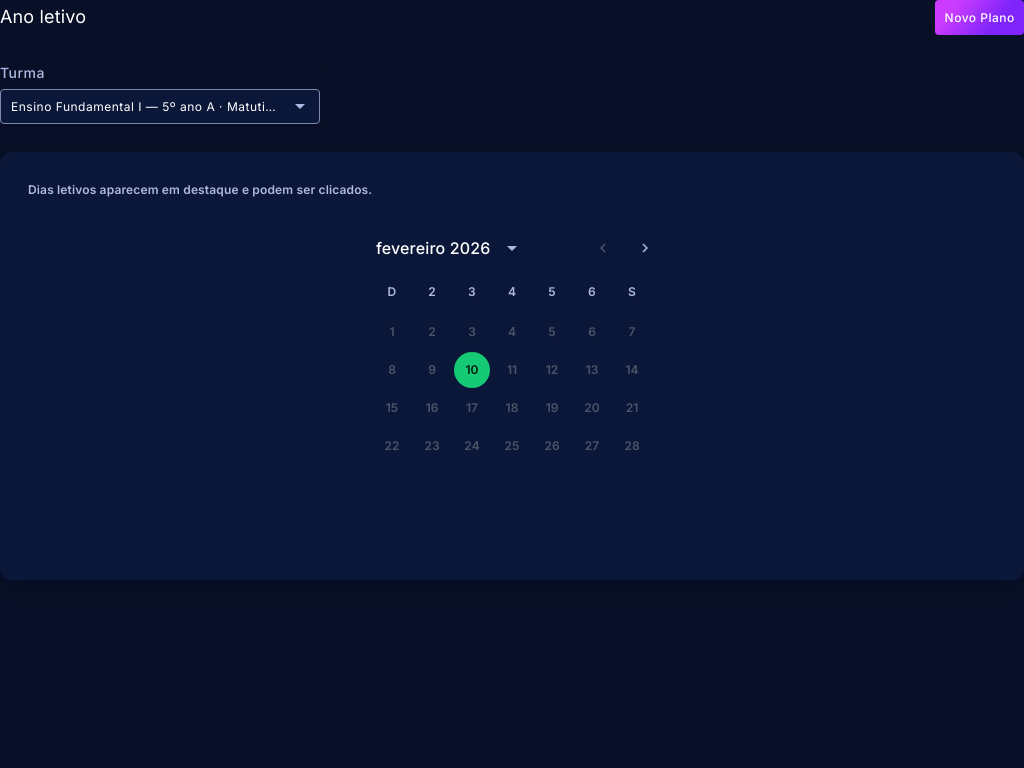
Test: LessonPlans page — teacher view › reports a teacher not assigned to the subject with the API 403
Click the cell "10" at (472, 370), box [454,352,490,388]
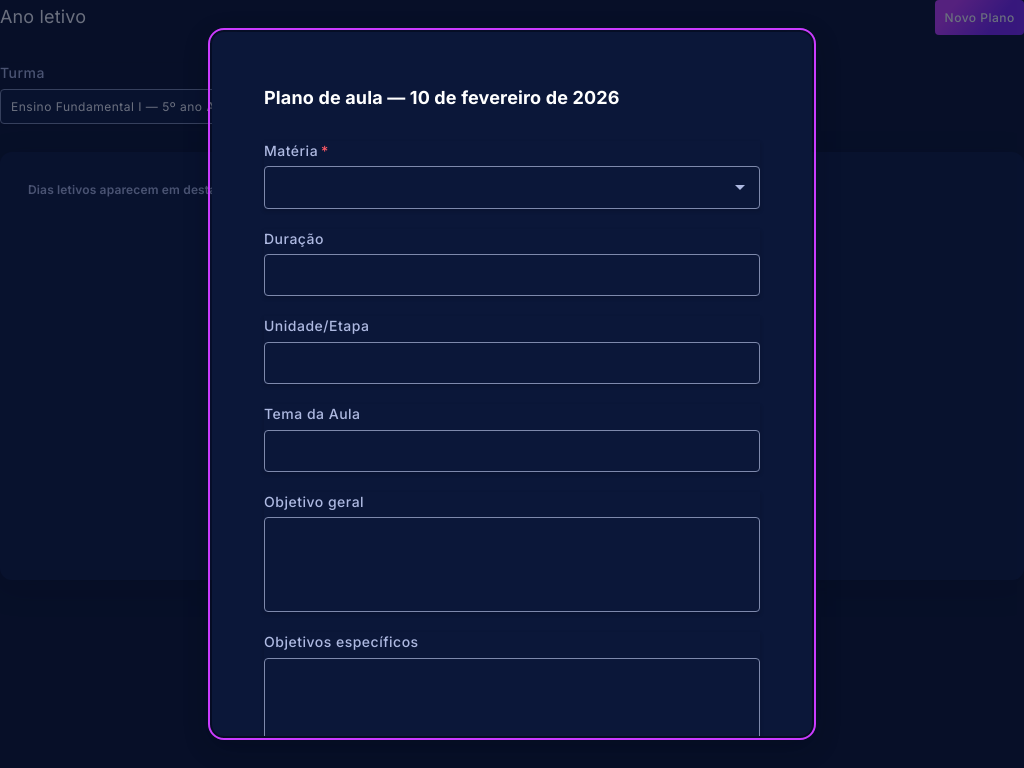
Click the dropdown named "matéria" at (512, 187), box [275,177,749,198]
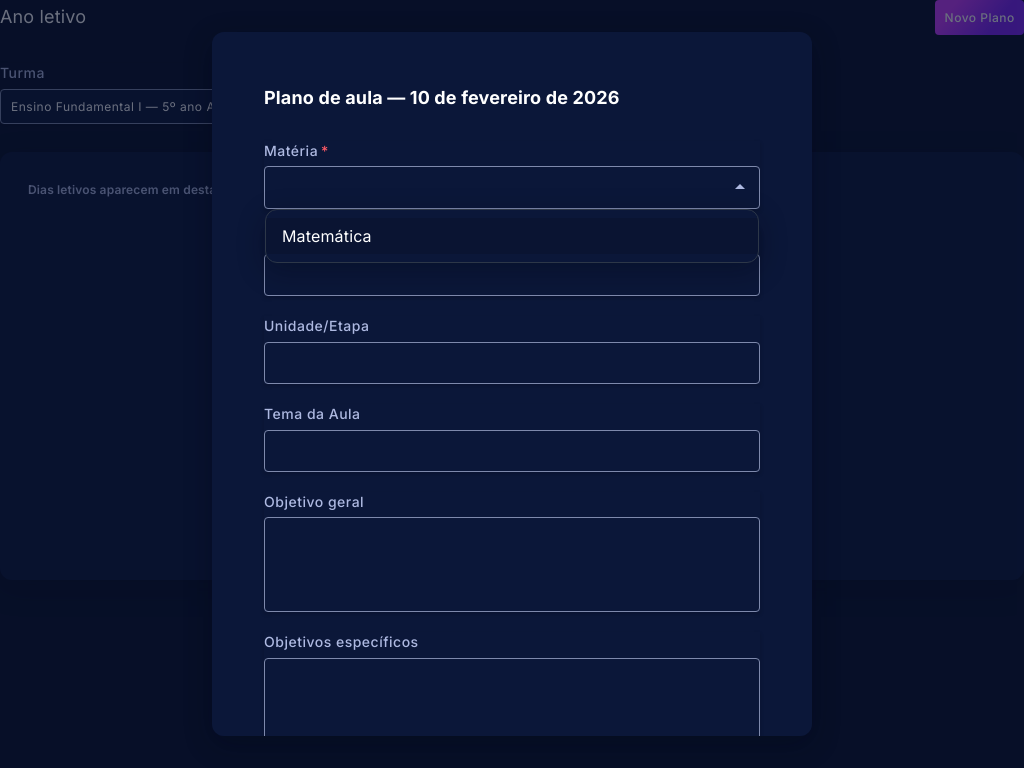
Click the option "Matemática" at (327, 236), box [266,218,758,254]
(page scrolled)
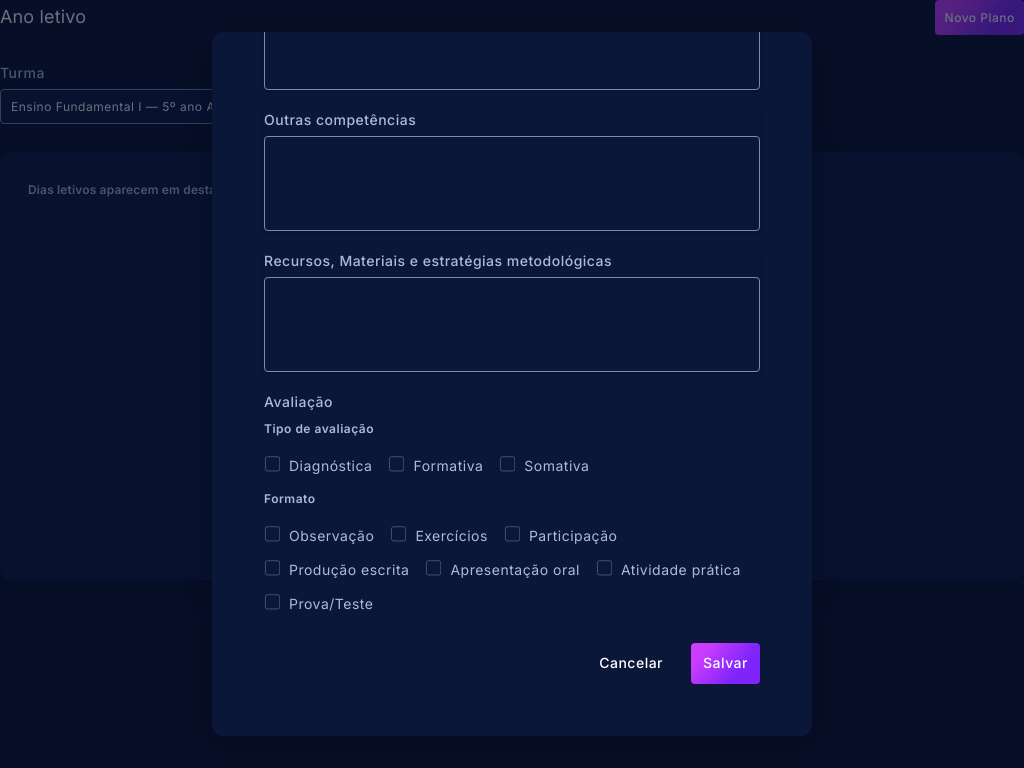
Click the button "Salvar" at (726, 663), box [691,643,760,684]
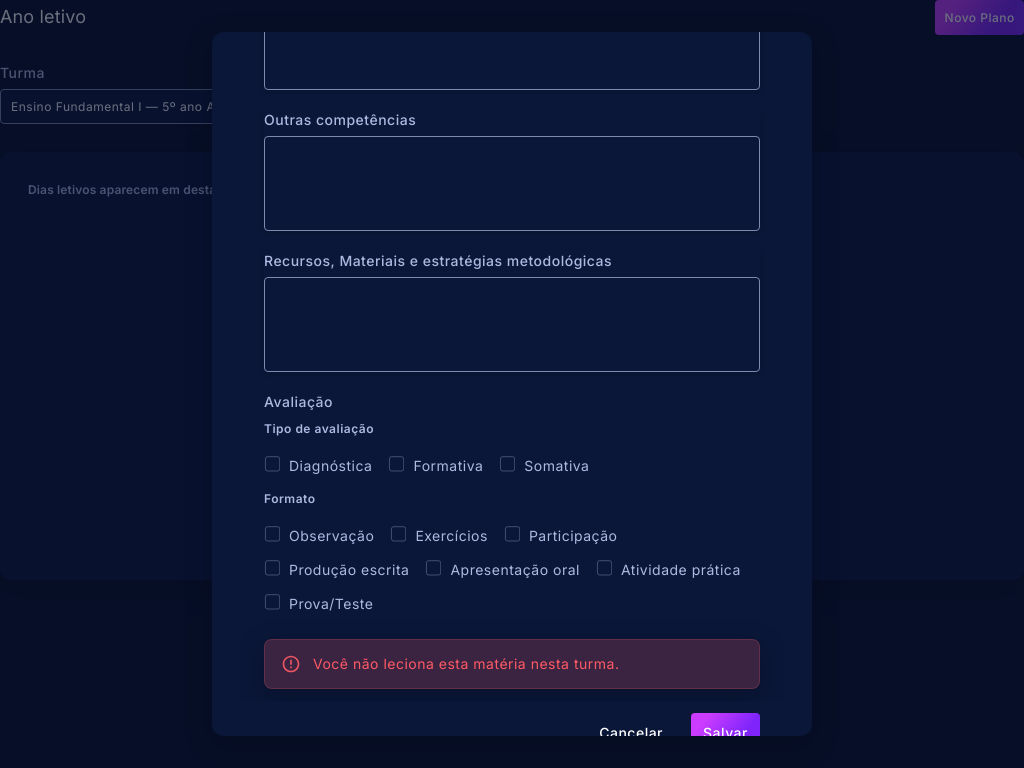
Now the text "Você não leciona esta matéria nesta turma." is shown, box [313,655,619,672]
